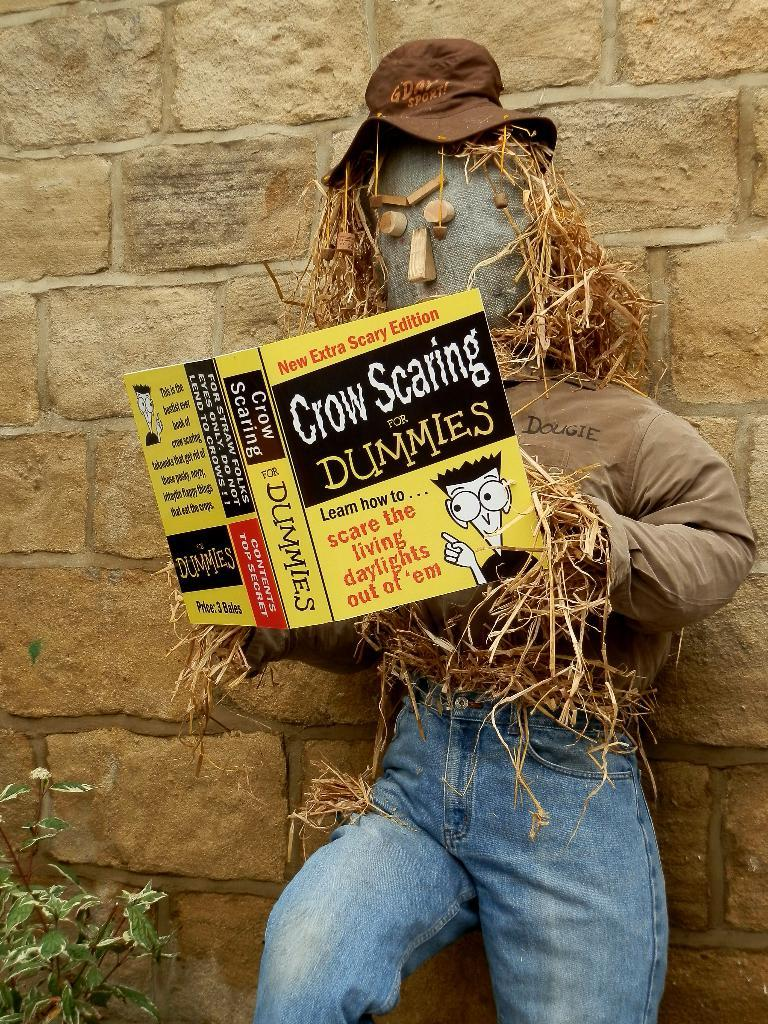Hat: (314, 39, 554, 184)
